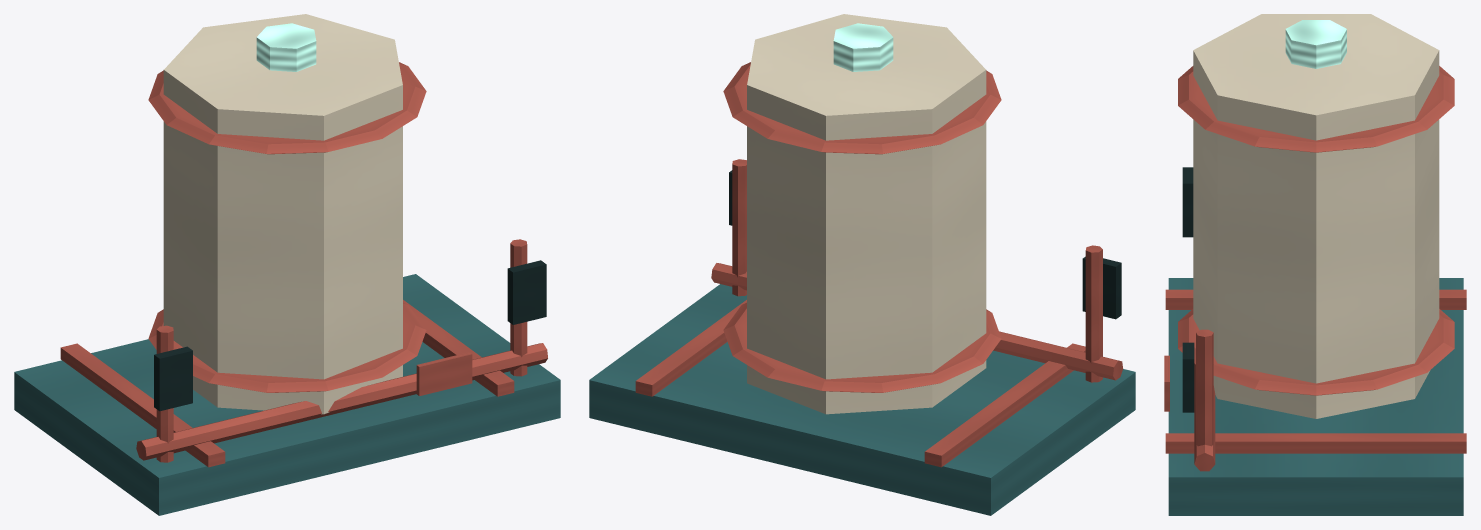
Rendered from atlas100-s034-a02.lod1.glb.
3 views of the same model, side by side, from view 1: azimuth 30°, elevation 25°; view 2: azimuth 150°, elevation 25°; view 3: azimuth 270°, elevation 25° (orthographic).
Parts seen in each view (by area): view 1: atlas100-s034-a02:part-003, atlas100-s034-a02:part-000, atlas100-s034-a02:part-011, atlas100-s034-a02:part-005, atlas100-s034-a02:part-004, atlas100-s034-a02:part-001, atlas100-s034-a02:part-006, atlas100-s034-a02:part-010, atlas100-s034-a02:part-008, atlas100-s034-a02:part-002, atlas100-s034-a02:part-012, atlas100-s034-a02:part-009 (+1 smaller); view 2: atlas100-s034-a02:part-003, atlas100-s034-a02:part-000, atlas100-s034-a02:part-005, atlas100-s034-a02:part-004, atlas100-s034-a02:part-001, atlas100-s034-a02:part-011, atlas100-s034-a02:part-002, atlas100-s034-a02:part-006, atlas100-s034-a02:part-007, atlas100-s034-a02:part-009, atlas100-s034-a02:part-008; view 3: atlas100-s034-a02:part-003, atlas100-s034-a02:part-000, atlas100-s034-a02:part-005, atlas100-s034-a02:part-002, atlas100-s034-a02:part-004, atlas100-s034-a02:part-006, atlas100-s034-a02:part-009, atlas100-s034-a02:part-001, atlas100-s034-a02:part-010, atlas100-s034-a02:part-011, atlas100-s034-a02:part-008.
Part boxes in pixels (left/top/right/bottom): atlas100-s034-a02:part-003: left=163, top=14, right=402, bottom=414; atlas100-s034-a02:part-000: left=14, top=274, right=560, bottom=515; atlas100-s034-a02:part-011: left=136, top=343, right=547, bottom=460; atlas100-s034-a02:part-005: left=148, top=62, right=426, bottom=154; atlas100-s034-a02:part-004: left=148, top=302, right=426, bottom=392; atlas100-s034-a02:part-001: left=60, top=343, right=225, bottom=467; atlas100-s034-a02:part-006: left=256, top=23, right=316, bottom=71; atlas100-s034-a02:part-010: left=507, top=260, right=546, bottom=324; atlas100-s034-a02:part-008: left=154, top=346, right=192, bottom=411; atlas100-s034-a02:part-002: left=403, top=300, right=514, bottom=396; atlas100-s034-a02:part-012: left=416, top=352, right=472, bottom=395; atlas100-s034-a02:part-009: left=510, top=239, right=527, bottom=376; atlas100-s034-a02:part-003: left=747, top=14, right=986, bottom=414; atlas100-s034-a02:part-000: left=589, top=284, right=1135, bottom=515; atlas100-s034-a02:part-005: left=723, top=62, right=1001, bottom=154; atlas100-s034-a02:part-004: left=723, top=302, right=1001, bottom=392; atlas100-s034-a02:part-001: left=924, top=343, right=1085, bottom=467; atlas100-s034-a02:part-011: left=711, top=263, right=1123, bottom=380; atlas100-s034-a02:part-002: left=635, top=300, right=746, bottom=396; atlas100-s034-a02:part-006: left=833, top=23, right=893, bottom=71; atlas100-s034-a02:part-007: left=1085, top=245, right=1102, bottom=382; atlas100-s034-a02:part-009: left=732, top=159, right=746, bottom=296; atlas100-s034-a02:part-008: left=1082, top=256, right=1121, bottom=319; atlas100-s034-a02:part-003: left=1193, top=14, right=1439, bottom=418; atlas100-s034-a02:part-000: left=1168, top=278, right=1463, bottom=515; atlas100-s034-a02:part-005: left=1178, top=66, right=1454, bottom=152; atlas100-s034-a02:part-002: left=1165, top=433, right=1466, bottom=453; atlas100-s034-a02:part-004: left=1178, top=309, right=1454, bottom=395; atlas100-s034-a02:part-006: left=1285, top=20, right=1346, bottom=68; atlas100-s034-a02:part-009: left=1196, top=329, right=1213, bottom=446; atlas100-s034-a02:part-001: left=1165, top=289, right=1466, bottom=309; atlas100-s034-a02:part-010: left=1182, top=342, right=1194, bottom=412; atlas100-s034-a02:part-011: left=1194, top=363, right=1215, bottom=471; atlas100-s034-a02:part-008: left=1182, top=167, right=1193, bottom=237.
Size of the model in its own units: 2.88 by 2.59 by 1.85.
Materials: 5 (5 with a texture image).
